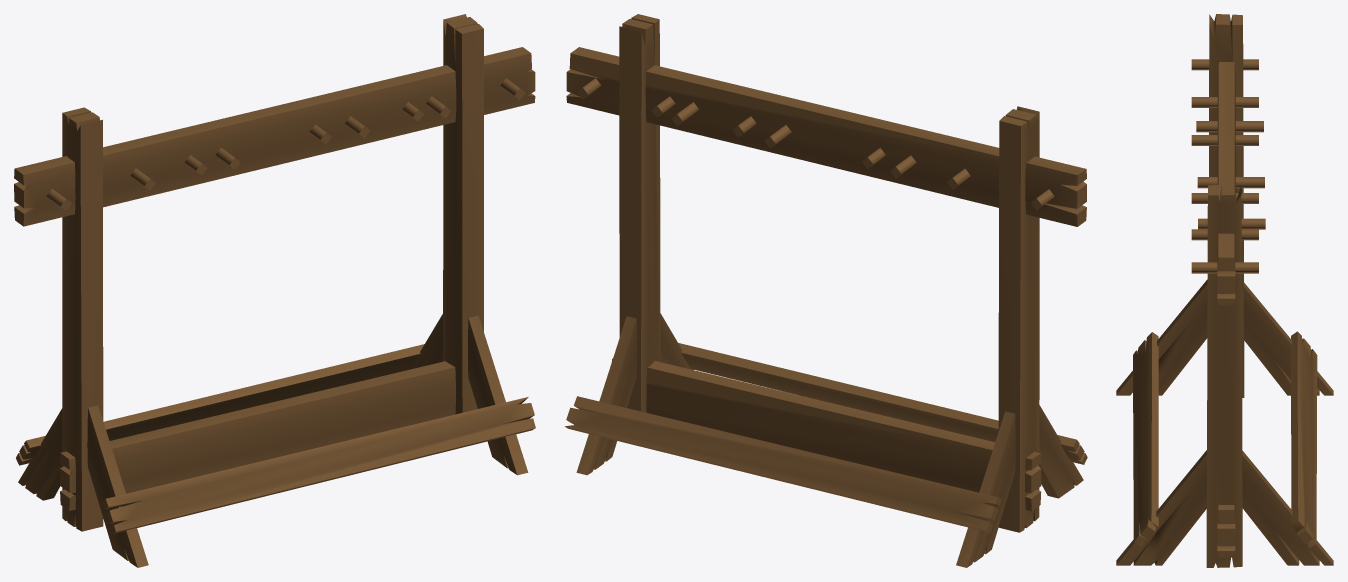
Rendered from obj_weaponRack_empty_LOW.FBX.
The picture shows the model from 3 angles, left to right: view 1: azimuth 30°, elevation 25°; view 2: azimuth 150°, elevation 25°; view 3: azimuth 270°, elevation 25°; orthographic projection. The views are drawn at different scales.
Visible parts, largest first — view 1: obj_weaponRack_empty_LOW; view 2: obj_weaponRack_empty_LOW; view 3: obj_weaponRack_empty_LOW.
Part boxes in pixels (bbox=[...]): obj_weaponRack_empty_LOW: bbox=[14, 14, 535, 567]; obj_weaponRack_empty_LOW: bbox=[565, 14, 1087, 567]; obj_weaponRack_empty_LOW: bbox=[1116, 14, 1333, 567].
Size of the model in its own units: 6.07 by 4.63 by 2.43.
